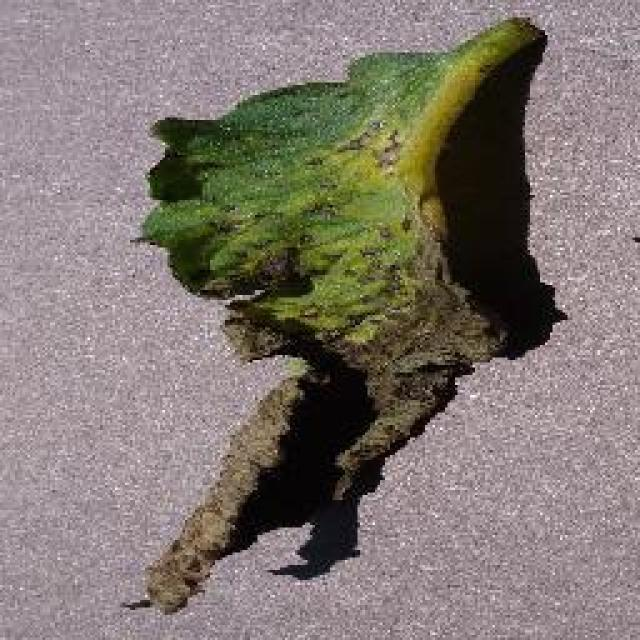Tomato___Septoria_leaf_spot: (138, 18, 538, 608)
